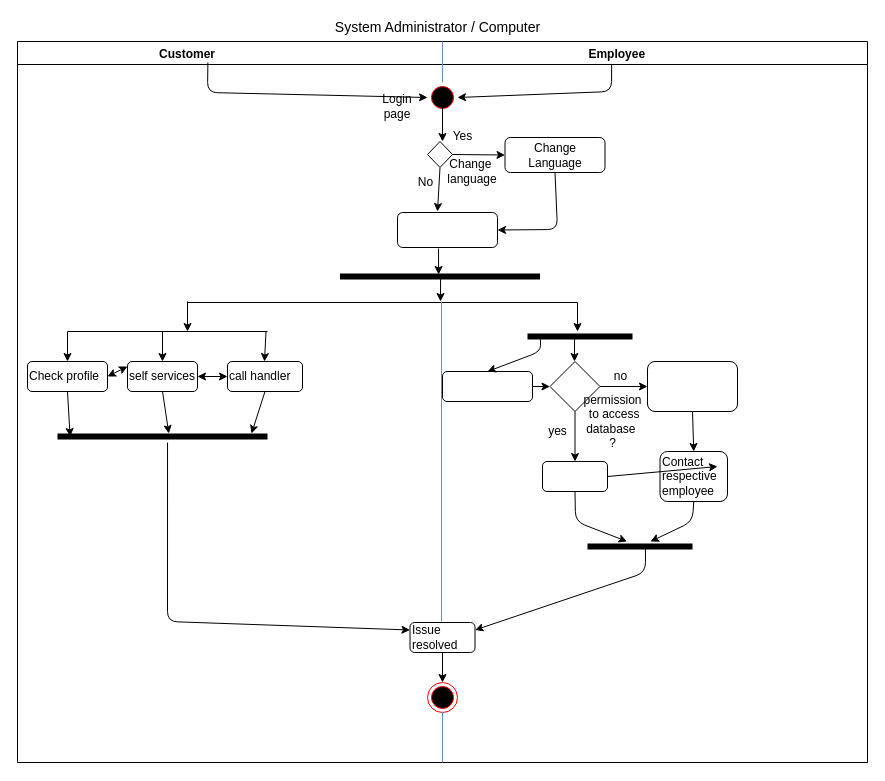
The diagram is 885 pixels wide and 781 high, and some of its shapes have lost their labels. Each missing label, with the centre of its shape:
"Access database" belongs at point 575,476.
"access denied Contact system administrator" belongs at point 692,386.
"Check individual profile" belongs at point 487,386.
"login" belongs at point 447,230.
